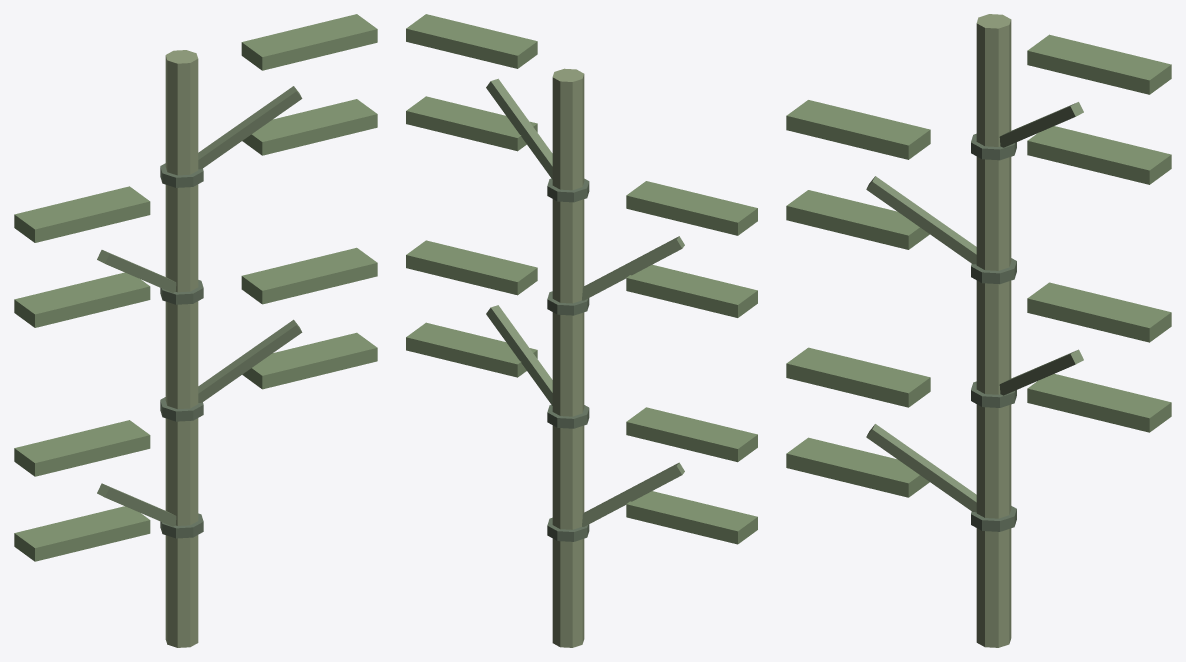
The model's file is bambu_alto_folhas.glb.
3 views of the same model, side by side, from view 1: azimuth 30°, elevation 25°; view 2: azimuth 150°, elevation 25°; view 3: azimuth 330°, elevation 25° (orthographic). The views are drawn at different scales.
Visible parts, largest first — view 1: bambu_alto_folhas_part_000, bambu_alto_folhas_part_004, bambu_alto_folhas_part_008, bambu_alto_folhas_part_012, bambu_alto_folhas_part_016, bambu_alto_folhas_part_003, bambu_alto_folhas_part_011, bambu_alto_folhas_part_007, bambu_alto_folhas_part_015, bambu_alto_folhas_part_014, bambu_alto_folhas_part_006, bambu_alto_folhas_part_002 (+5 smaller); view 2: bambu_alto_folhas_part_000, bambu_alto_folhas_part_008, bambu_alto_folhas_part_004, bambu_alto_folhas_part_016, bambu_alto_folhas_part_012, bambu_alto_folhas_part_003, bambu_alto_folhas_part_011, bambu_alto_folhas_part_007, bambu_alto_folhas_part_015, bambu_alto_folhas_part_006, bambu_alto_folhas_part_014, bambu_alto_folhas_part_002 (+5 smaller); view 3: bambu_alto_folhas_part_000, bambu_alto_folhas_part_008, bambu_alto_folhas_part_012, bambu_alto_folhas_part_016, bambu_alto_folhas_part_004, bambu_alto_folhas_part_015, bambu_alto_folhas_part_007, bambu_alto_folhas_part_003, bambu_alto_folhas_part_011, bambu_alto_folhas_part_010, bambu_alto_folhas_part_002, bambu_alto_folhas_part_014 (+5 smaller).
Boxes of the visible parts, <box> form: bambu_alto_folhas_part_000: <box>165,50,198,647</box>; bambu_alto_folhas_part_004: <box>14,420,150,476</box>; bambu_alto_folhas_part_008: <box>241,247,377,304</box>; bambu_alto_folhas_part_012: <box>14,186,150,242</box>; bambu_alto_folhas_part_016: <box>241,14,377,70</box>; bambu_alto_folhas_part_003: <box>14,506,150,561</box>; bambu_alto_folhas_part_011: <box>14,272,150,327</box>; bambu_alto_folhas_part_007: <box>242,332,377,389</box>; bambu_alto_folhas_part_015: <box>242,99,377,155</box>; bambu_alto_folhas_part_014: <box>198,86,302,169</box>; bambu_alto_folhas_part_006: <box>198,319,302,402</box>; bambu_alto_folhas_part_002: <box>97,483,176,526</box>; bambu_alto_folhas_part_000: <box>552,68,584,647</box>; bambu_alto_folhas_part_008: <box>406,240,537,295</box>; bambu_alto_folhas_part_004: <box>626,407,757,462</box>; bambu_alto_folhas_part_016: <box>406,14,537,68</box>; bambu_alto_folhas_part_012: <box>626,181,757,235</box>; bambu_alto_folhas_part_003: <box>626,491,757,544</box>; bambu_alto_folhas_part_011: <box>626,264,757,317</box>; bambu_alto_folhas_part_007: <box>406,322,537,377</box>; bambu_alto_folhas_part_015: <box>406,96,537,151</box>; bambu_alto_folhas_part_006: <box>486,305,552,405</box>; bambu_alto_folhas_part_014: <box>486,78,552,179</box>; bambu_alto_folhas_part_002: <box>582,462,684,526</box>; bambu_alto_folhas_part_000: <box>976,14,1011,647</box>; bambu_alto_folhas_part_008: <box>1027,282,1171,342</box>; bambu_alto_folhas_part_012: <box>786,100,930,159</box>; bambu_alto_folhas_part_016: <box>1027,34,1171,94</box>; bambu_alto_folhas_part_004: <box>786,347,930,407</box>; bambu_alto_folhas_part_015: <box>1027,126,1171,184</box>; bambu_alto_folhas_part_007: <box>1027,374,1171,432</box>; bambu_alto_folhas_part_003: <box>786,437,929,497</box>; bambu_alto_folhas_part_011: <box>786,190,929,249</box>; bambu_alto_folhas_part_010: <box>866,176,976,264</box>; bambu_alto_folhas_part_002: <box>866,424,976,512</box>; bambu_alto_folhas_part_014: <box>999,102,1083,147</box>.
Bounding box in the file's own units: 2.11 × 3.46 × 0.38.
